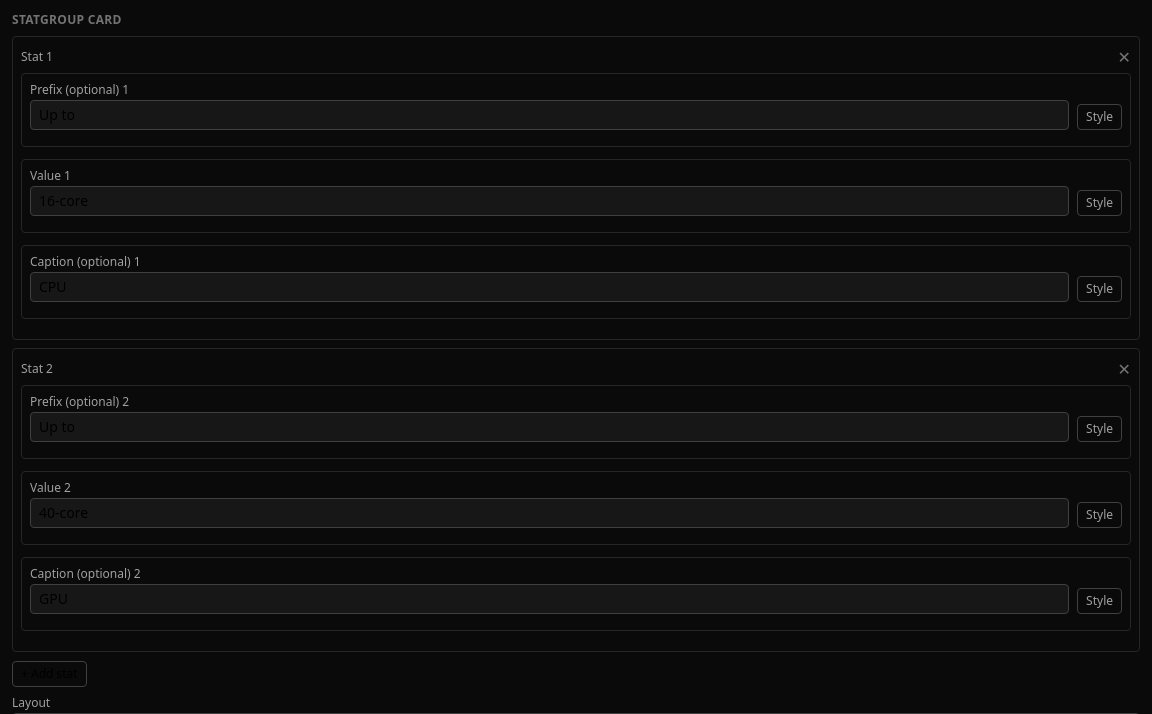
Test: Inspector › statGroup: disables add at 6 stats
What coordinates should you click on to do the following:
click the button "+ Add stat"
I would click on:
 (49, 674)
Its box is x1=12 y1=661 x2=87 y2=687.
(page scrolled)
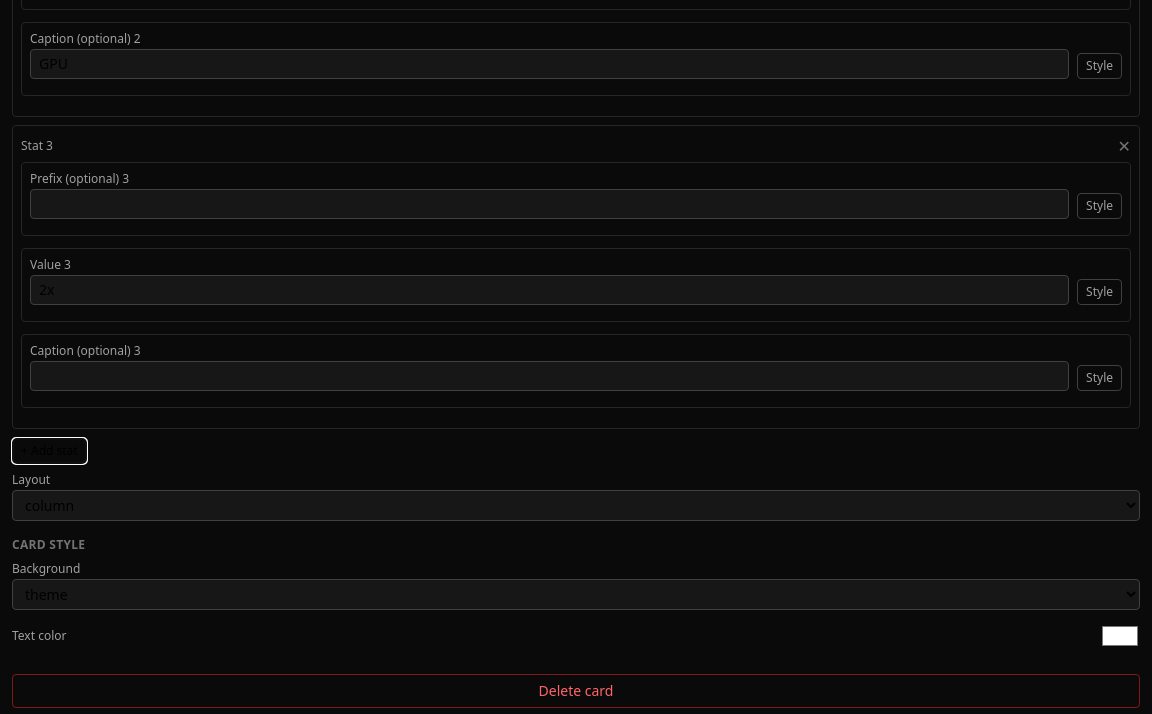
What coordinates should you click on to do the following:
click the button "+ Add stat"
I would click on:
 (49, 451)
Its box is x1=12 y1=438 x2=87 y2=464.
(page scrolled)
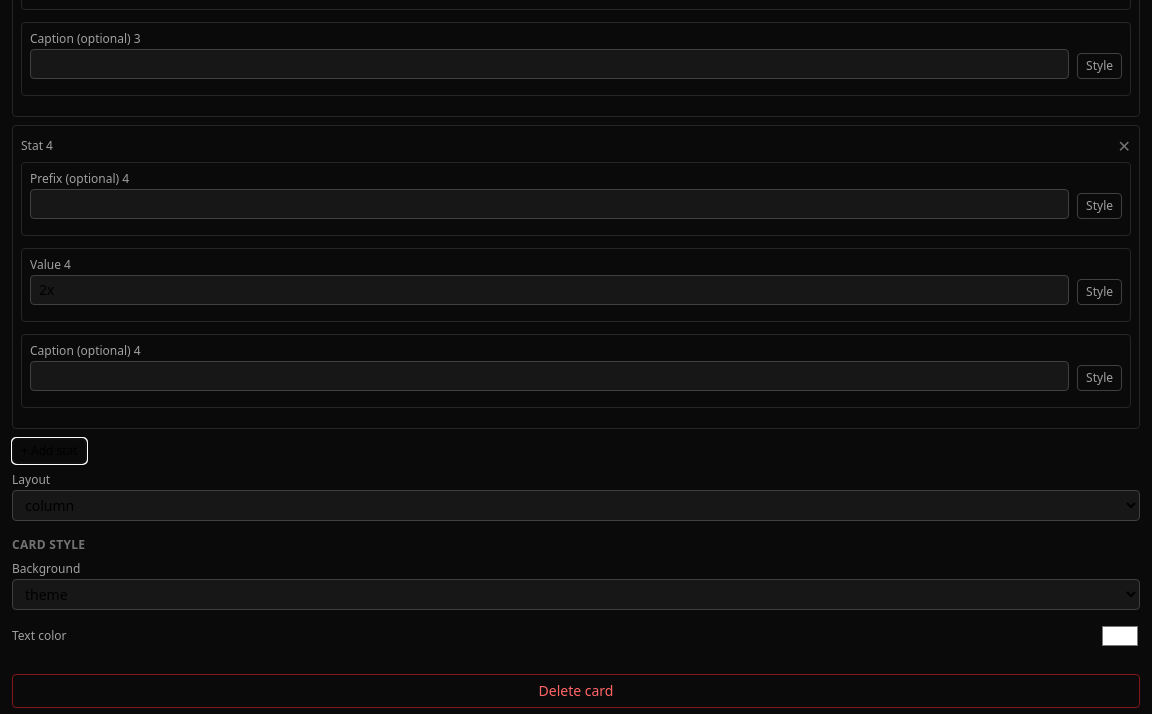
What coordinates should you click on to do the following:
click the button "+ Add stat"
I would click on:
 (49, 451)
Its box is x1=12 y1=438 x2=87 y2=464.
(page scrolled)
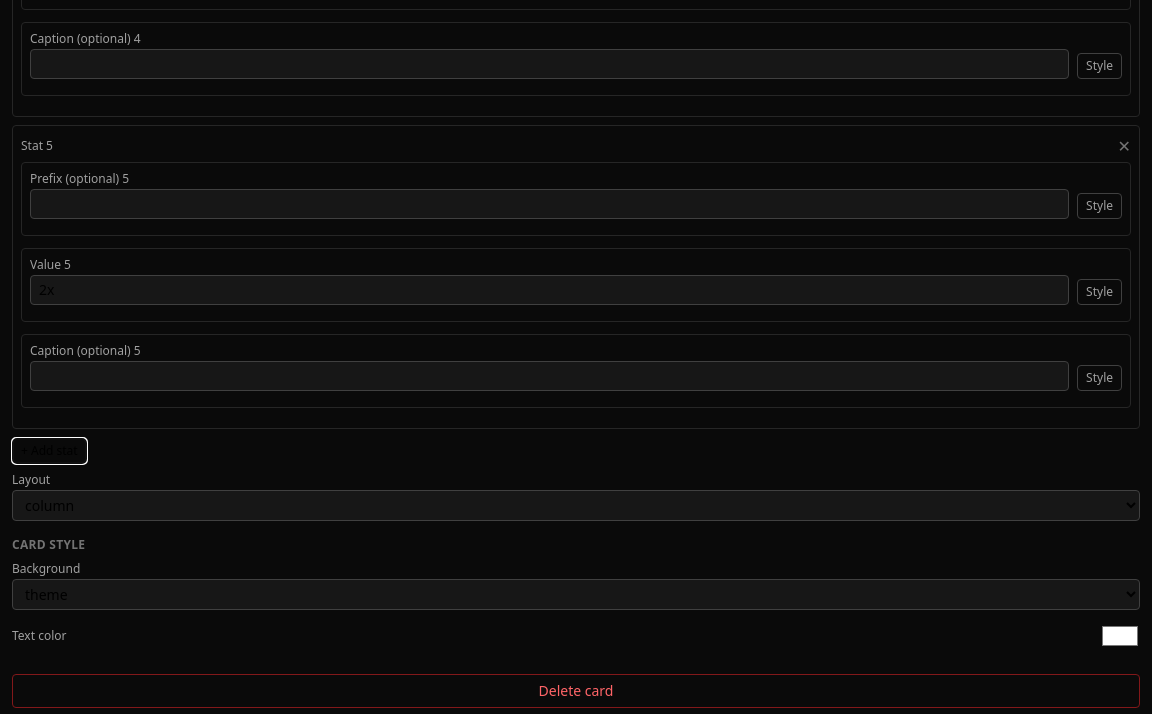
What coordinates should you click on to do the following:
click the button "+ Add stat"
I would click on:
 (49, 451)
Its box is x1=12 y1=438 x2=87 y2=464.
(page scrolled)
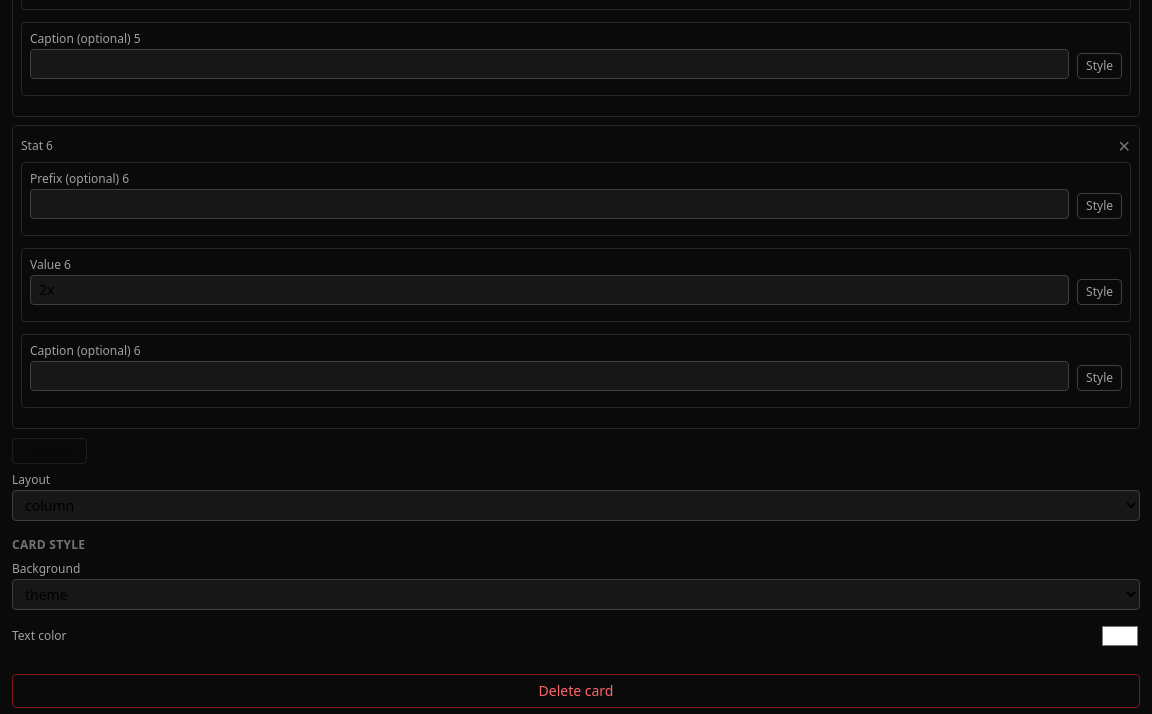
Expected: the button "+ Add stat" is disabled, x1=12 y1=438 x2=87 y2=464
